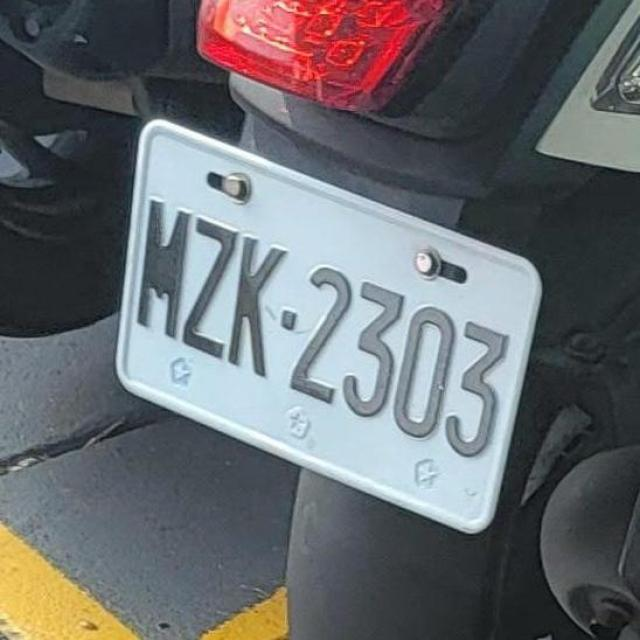W: (111, 117, 547, 538)
